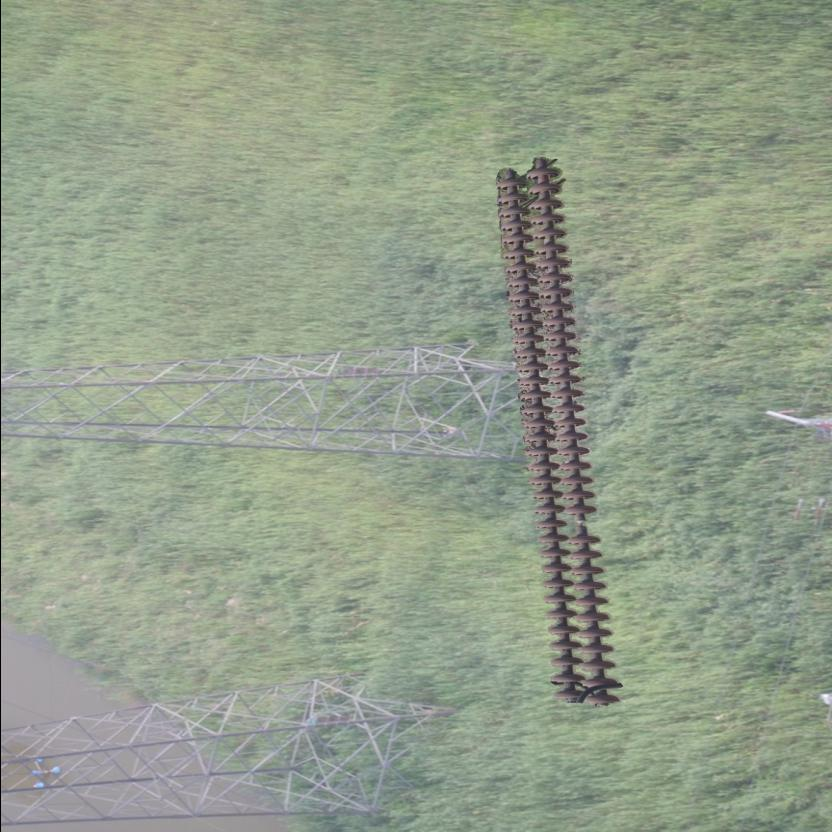defect: (560, 500, 602, 550)
